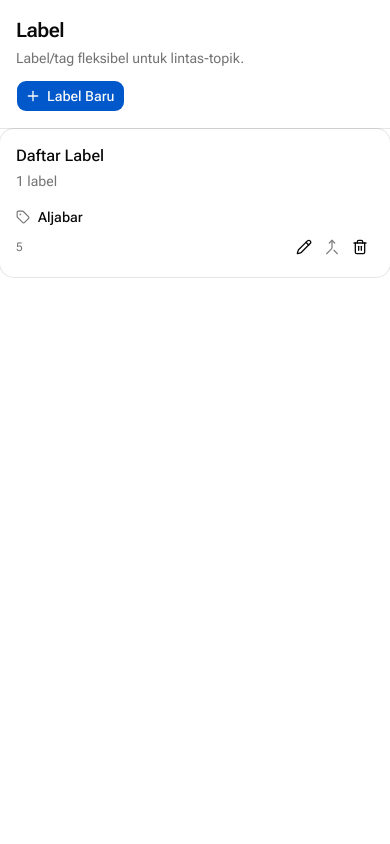
Test: LabelsView — dialog Sunting › membuka dialog Sunting Label saat tombol Sunting diklik
Click the button named "Sunting Aljabar".
click(304, 247)  # box x1=290 y1=233 x2=318 y2=261
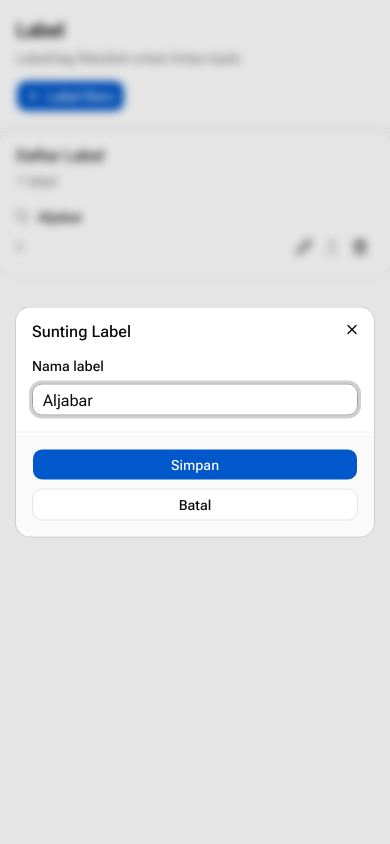
Result: the heading "Sunting Label" is shown at x1=32 y1=322 x2=131 y2=340
